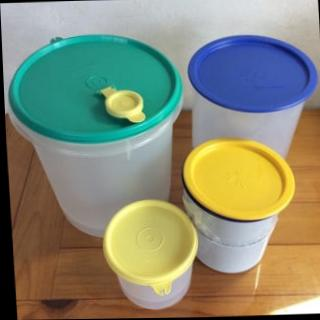plastic: (169, 28, 320, 275), (3, 28, 184, 234), (99, 198, 206, 315)
